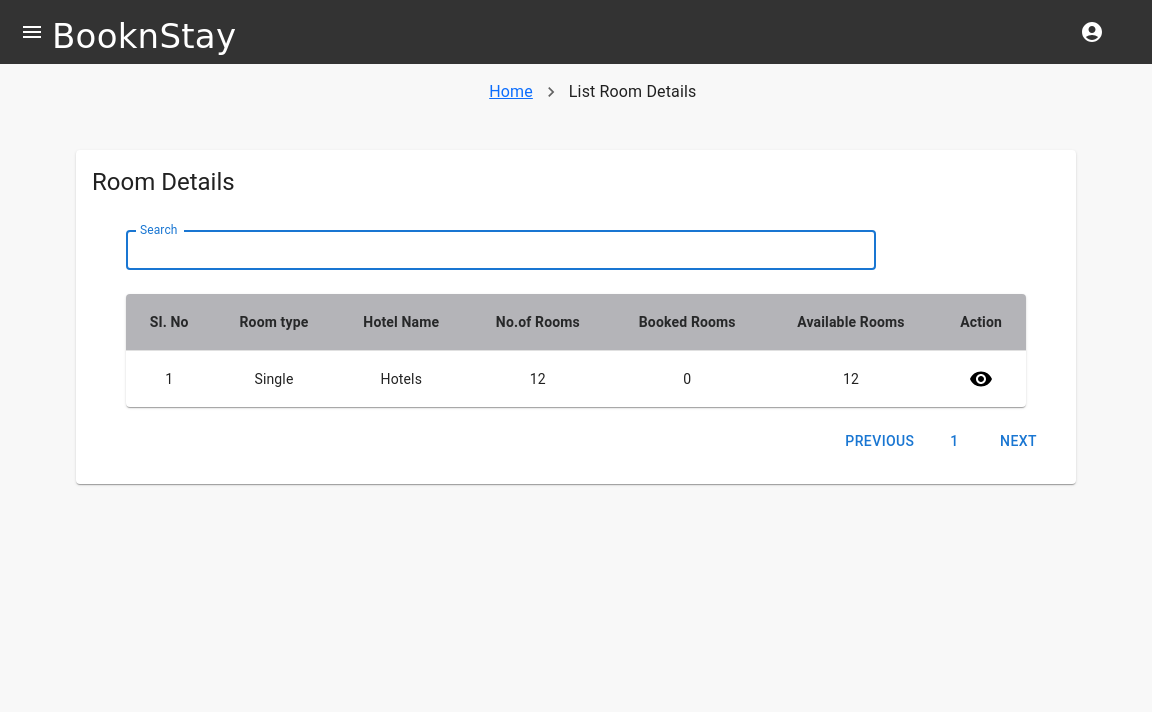
it: testing view room details components › should handle fetch additional services error
The width and height of the screenshot is (1152, 720).
Click the icon with test id "view-more-icon": (981, 379) [969, 367, 993, 391]
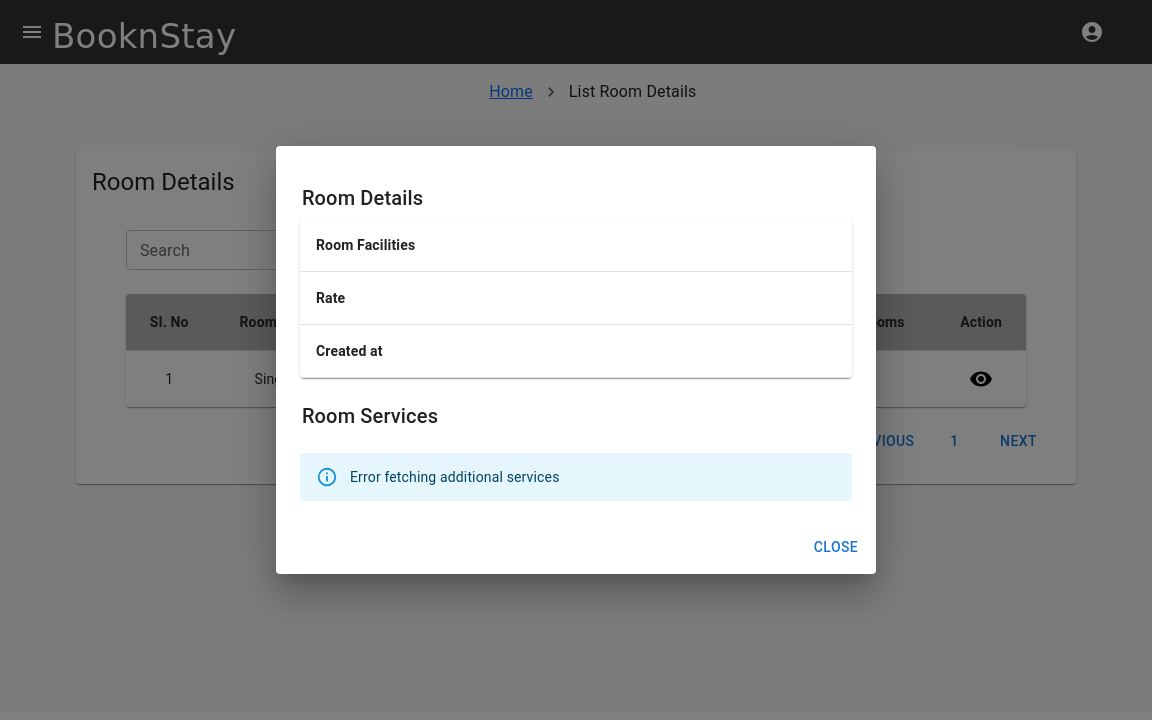
expect the dialog is shown: met, box [276, 146, 876, 574]
expect the text "Error fetching additional services" is shown: met, box [350, 469, 560, 485]
